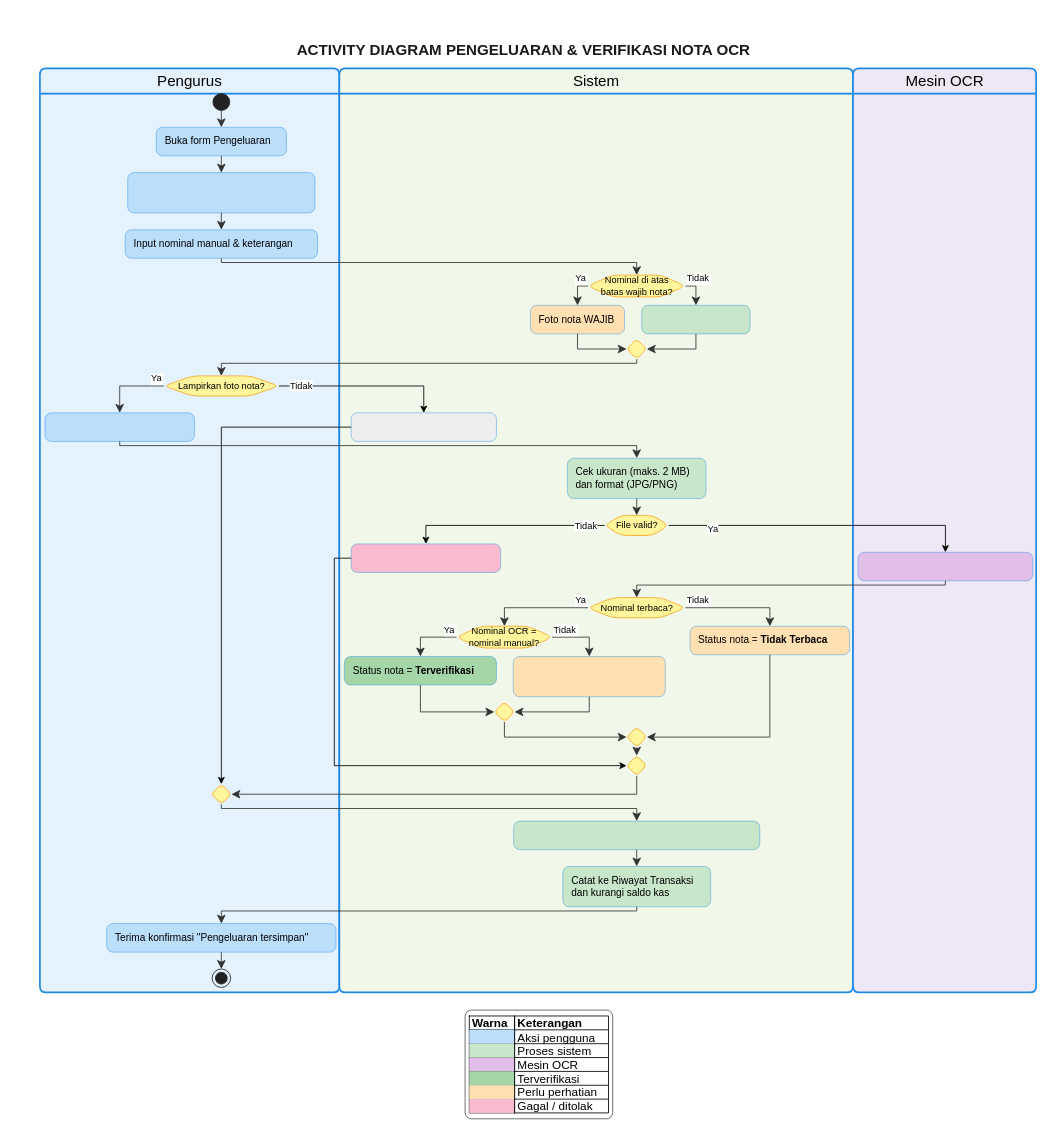
Image size: 1051x1133. Some labels were removed from this diagram. The box of each missing label's shape, as (x1, y1, x2, y2) in pixels:
Ambil foto nota via kamera: (44, 412, 194, 441)
Ekstrak teks & nominal dari foto: (857, 552, 1033, 581)
Foto nota opsional: (641, 305, 750, 334)
Pilih kategori (Kebersihan, Keamanan, Acara, dll): (127, 172, 315, 213)
Simpan pengeluaran & foto nota secara atomik: (513, 821, 760, 849)
Status nota = Tanpa Nota: (351, 412, 496, 441)
Status nota = Tidak Sesuai (tampilkan selisih): (513, 656, 665, 697)
Tolak file, minta foto ulang: (351, 543, 500, 572)
